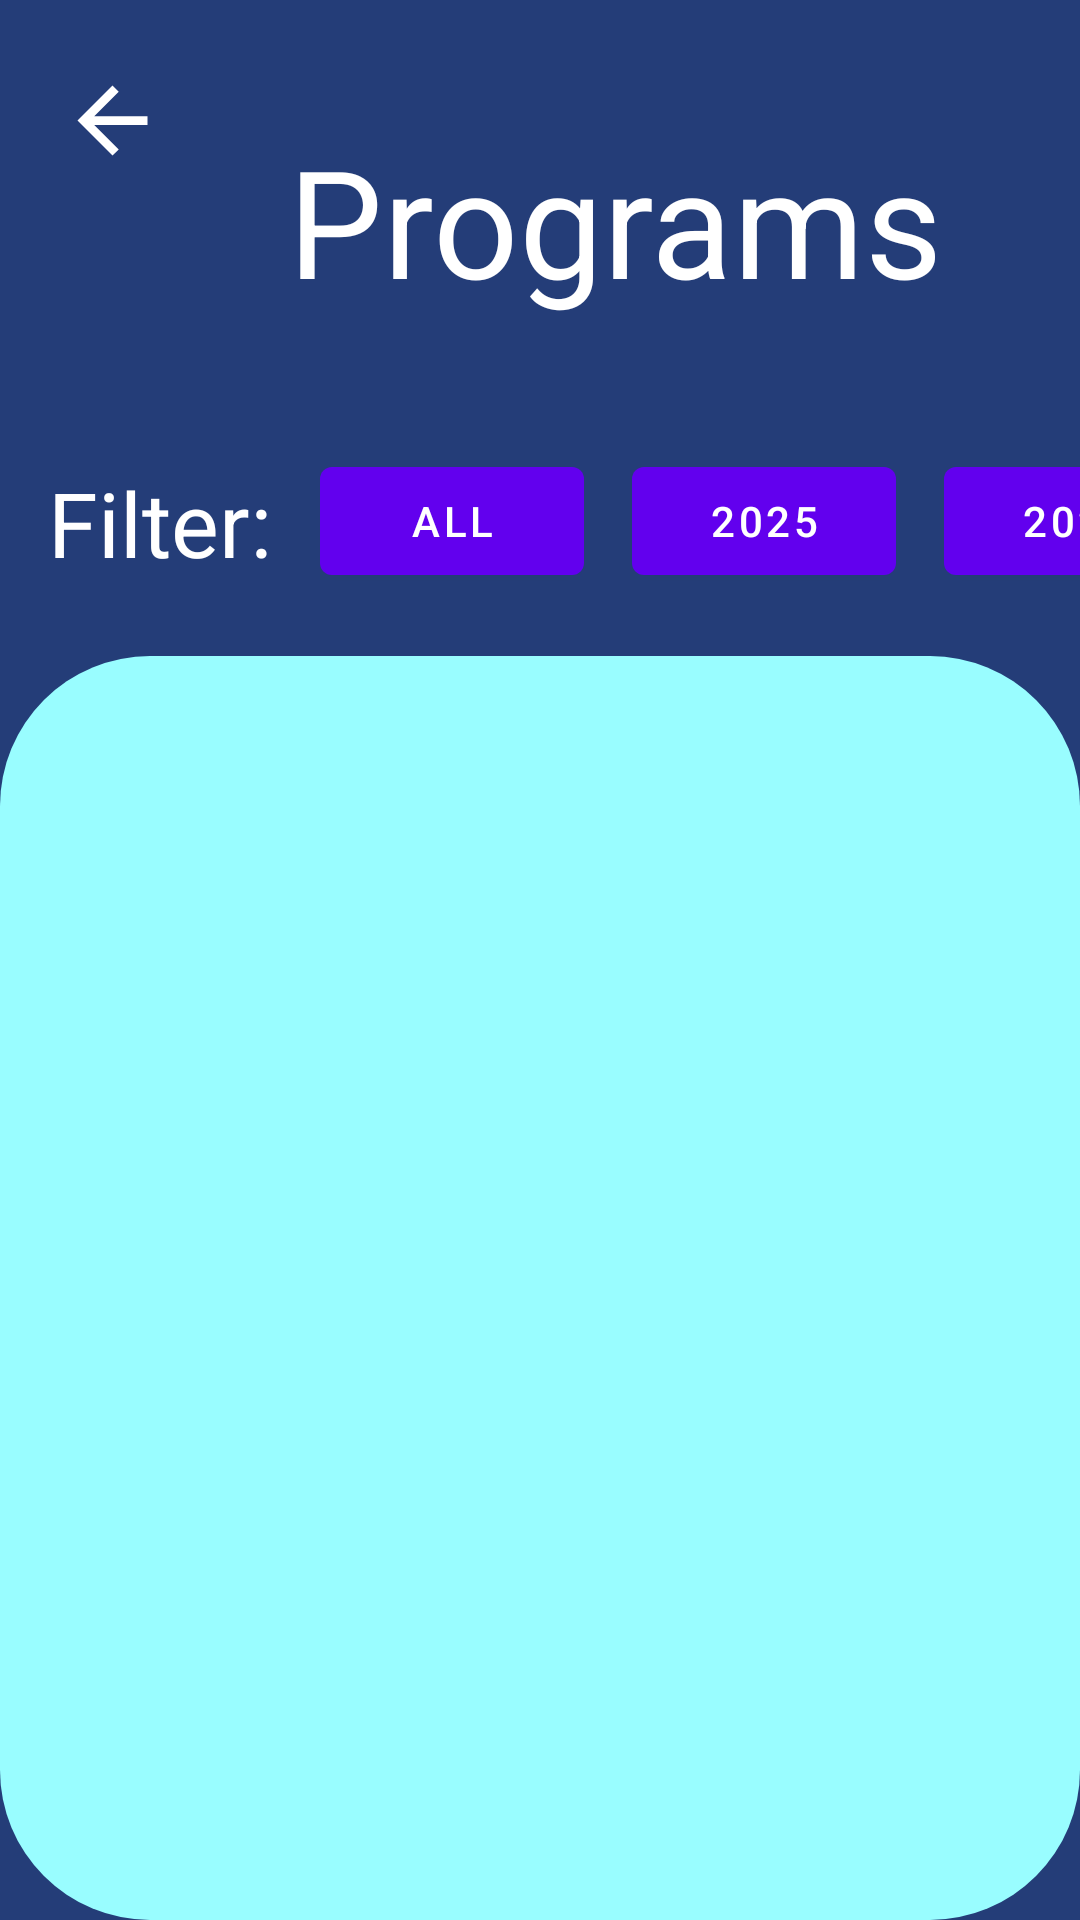

Icon bounding boxes for this 1080w x 1920h phone screenshot, format detection(x1, y1, x2, y2):
Back: detection(77, 85, 148, 156)
